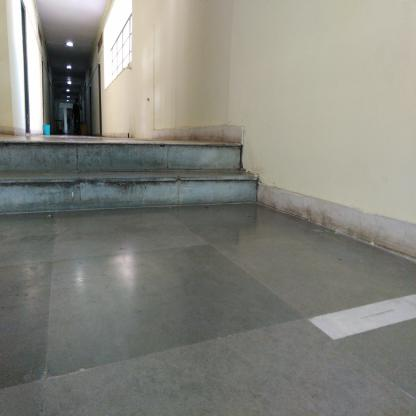stairs: (1, 141, 244, 215)
